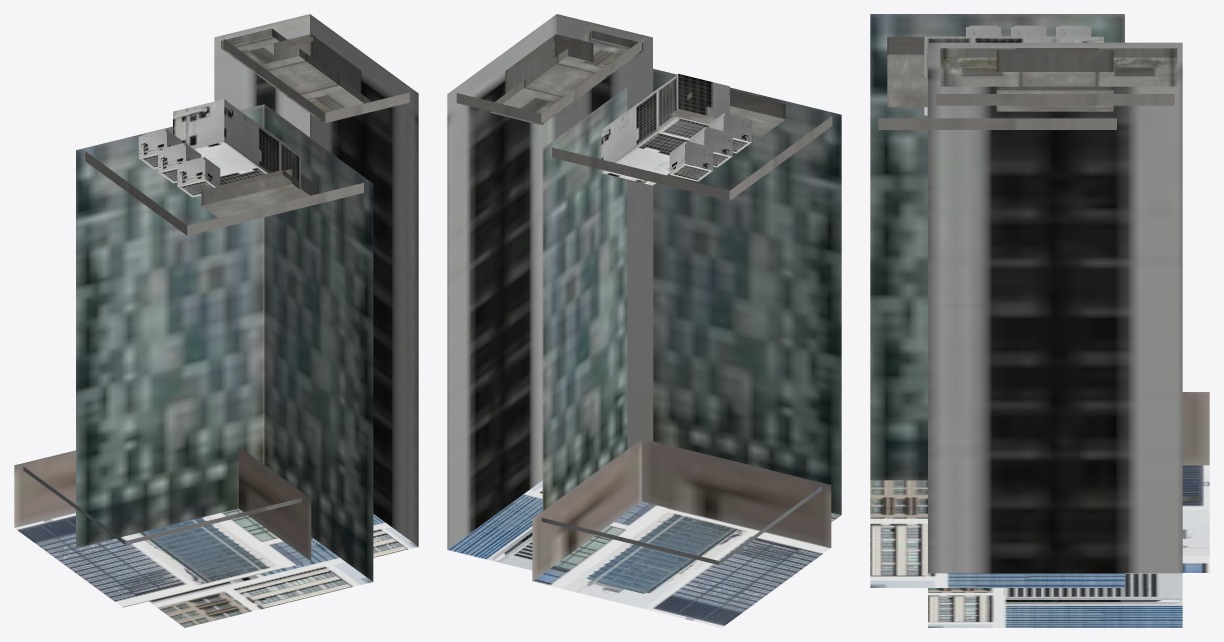
The picture shows the model from 3 angles, left to right: view 1: azimuth 30°, elevation 25°; view 2: azimuth 150°, elevation 25°; view 3: azimuth 270°, elevation 25°; orthographic projection. The views are drawn at different scales.
Bounding box in the file's own units: 0.2897 × 0.4538 × 0.2557.
Materials: 1 (1 with a texture image).
